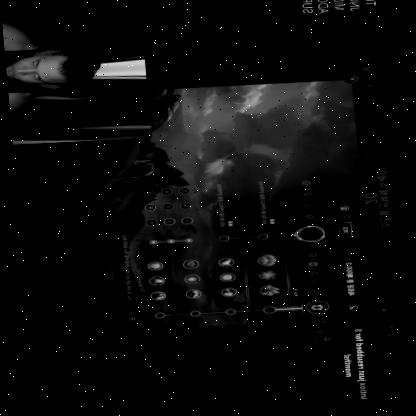streamer: (1, 8, 100, 126)
